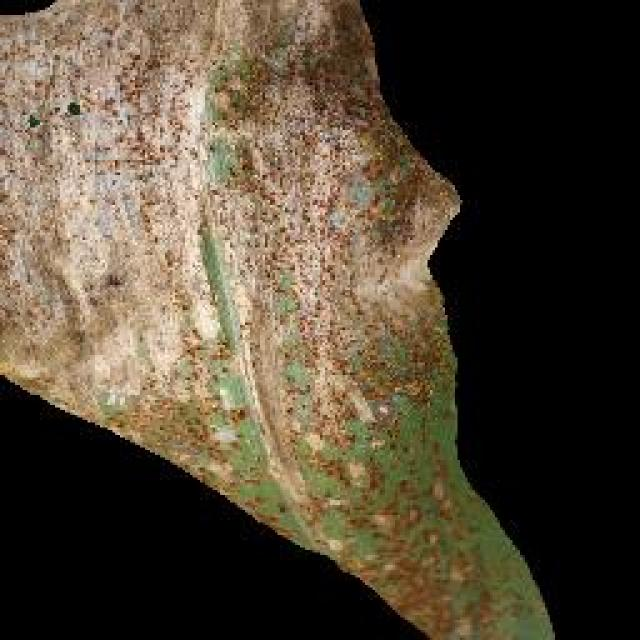Corn___Common_rust: (0, 0, 393, 405)
